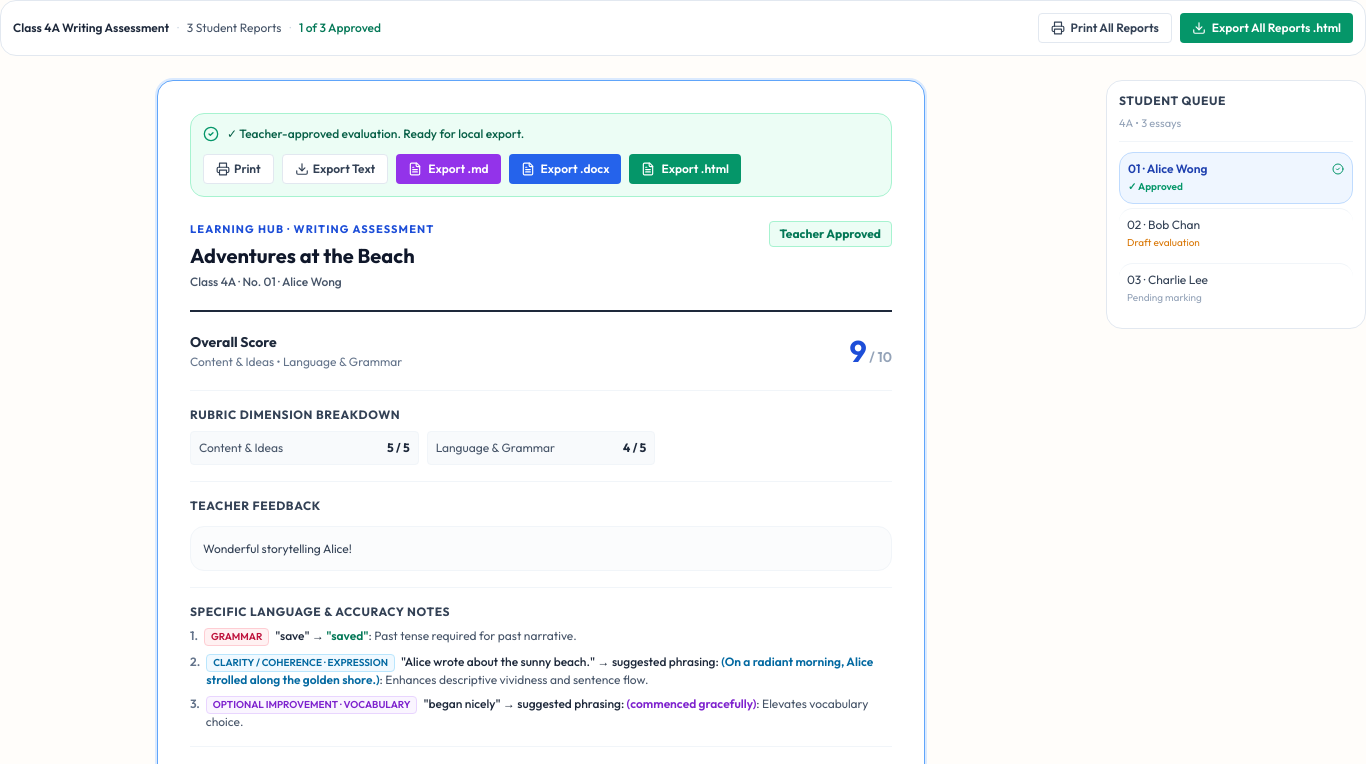
Test: Export All Reports .html Feature Verification Tests › 9. Renders "Export All Reports .html" button in ReportPanel and displays privacy modal before downloading
Note: Click button to open confirmation modal
Click the button "Export All Reports .html".
click(1266, 28)  # box x1=1180 y1=13 x2=1353 y2=43
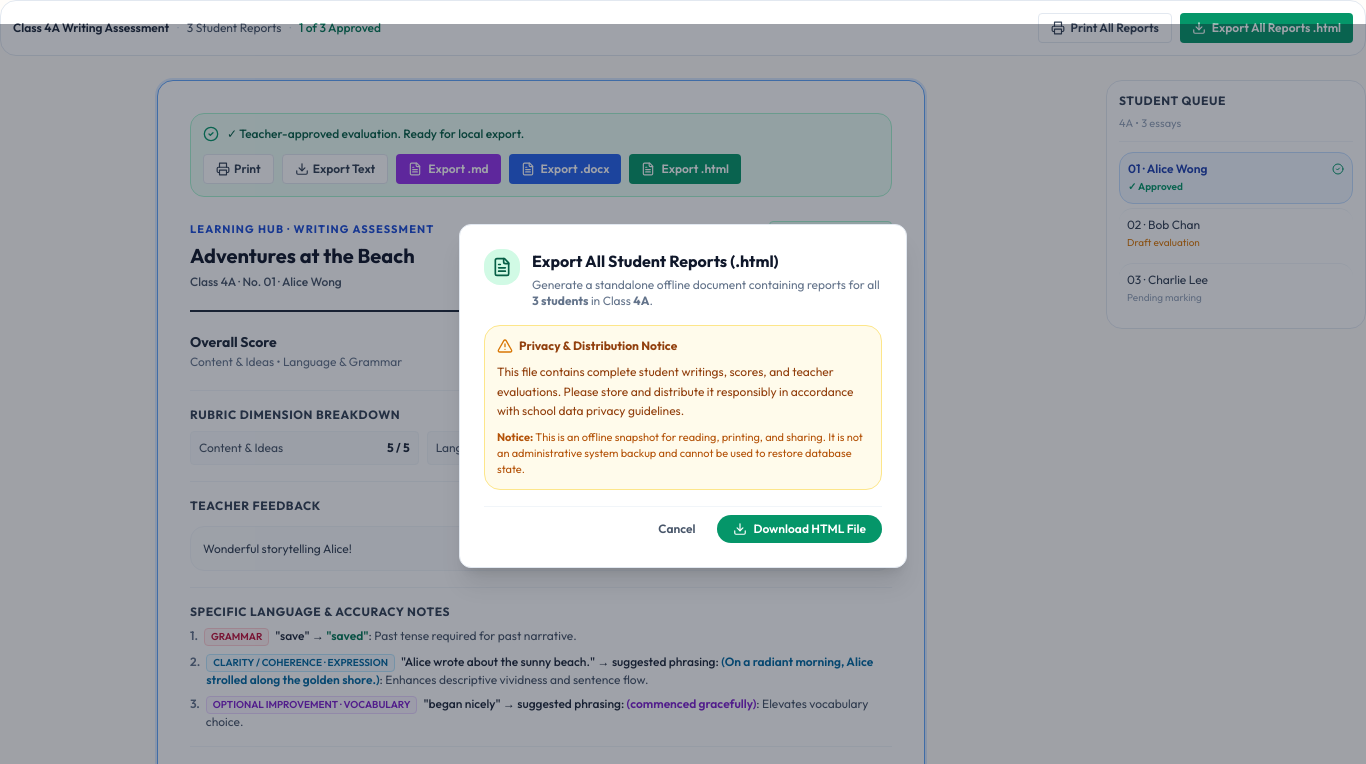
Check: the text "Privacy & Distribution Notice" is shown, box x1=519 y1=338 x2=677 y2=354
Check: the text "Please store and distribute it responsibly" is shown, box x1=497 y1=364 x2=854 y2=418
Note: Click "Download HTML File" in modal
Click the button "Download HTML File".
click(800, 529)  # box x1=717 y1=515 x2=882 y2=543
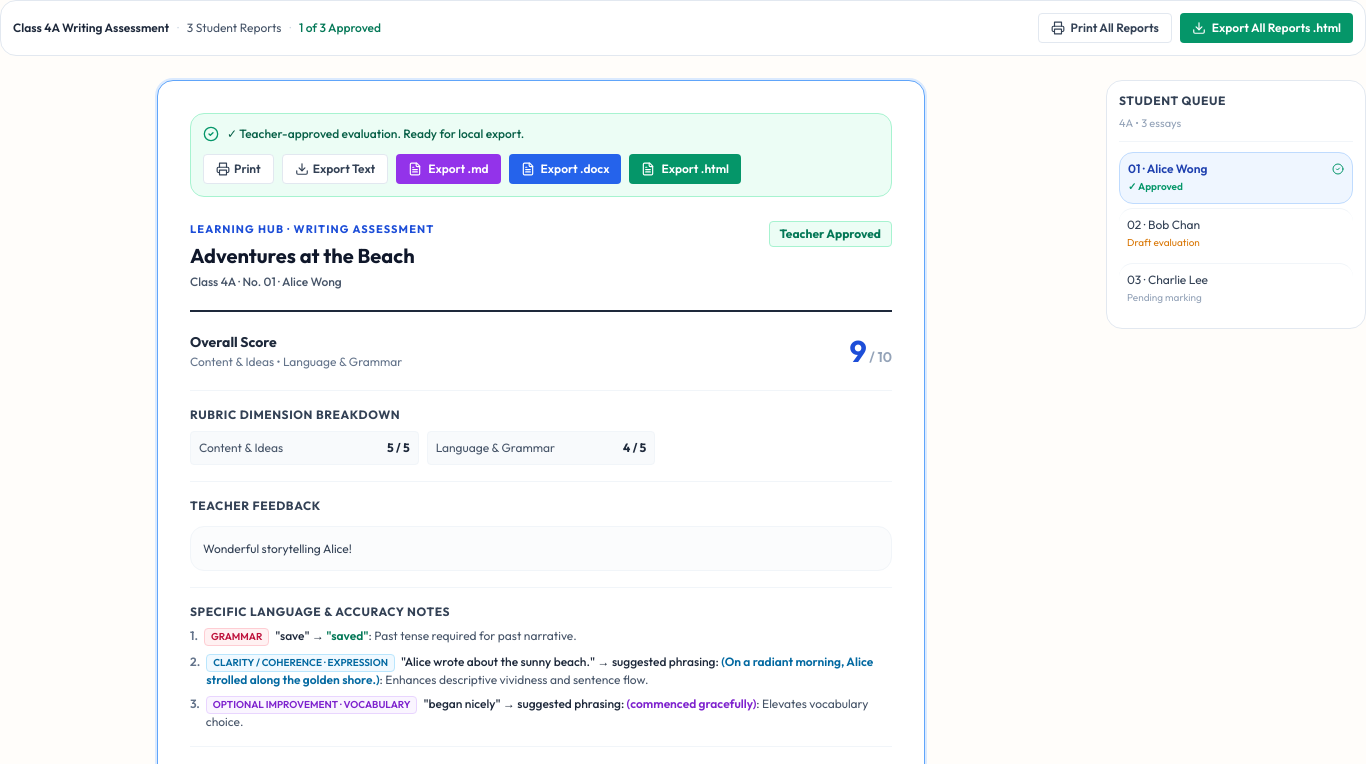
Check: the text "Privacy & Distribution Notice" is gone
